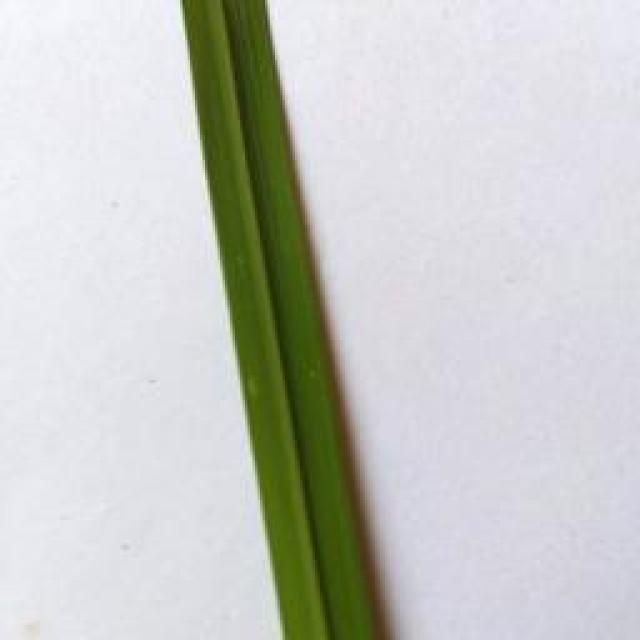Bacterial_Blight: (258, 0, 390, 640)
